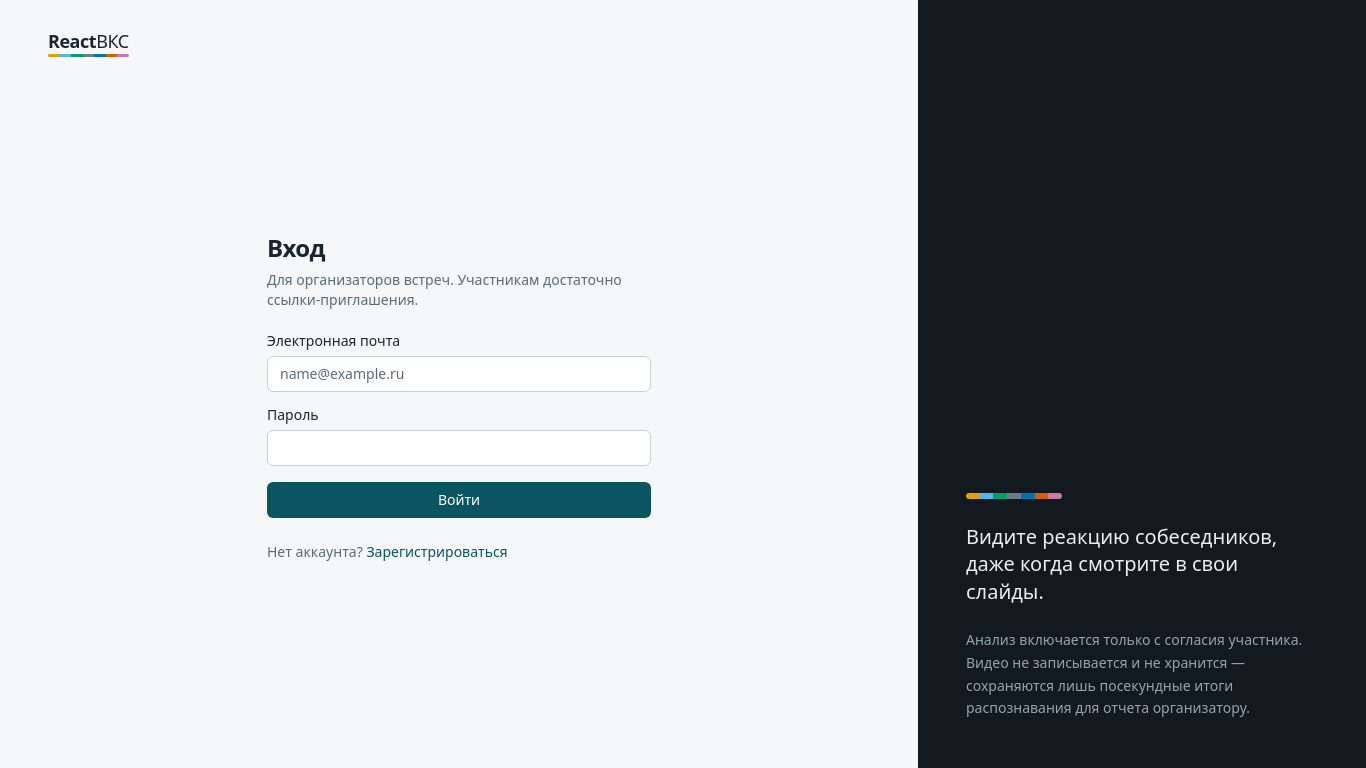
Test: вход › успешный вход: токен в памяти, переход на /meetings, имя в шапке
The width and height of the screenshot is (1366, 768).
Expected: the heading "Вход" is shown, [267, 230, 325, 264]
Type "ivan@example.ru" into the field labelled "Электронная почта". click: (459, 374)
box: [267, 356, 651, 392]
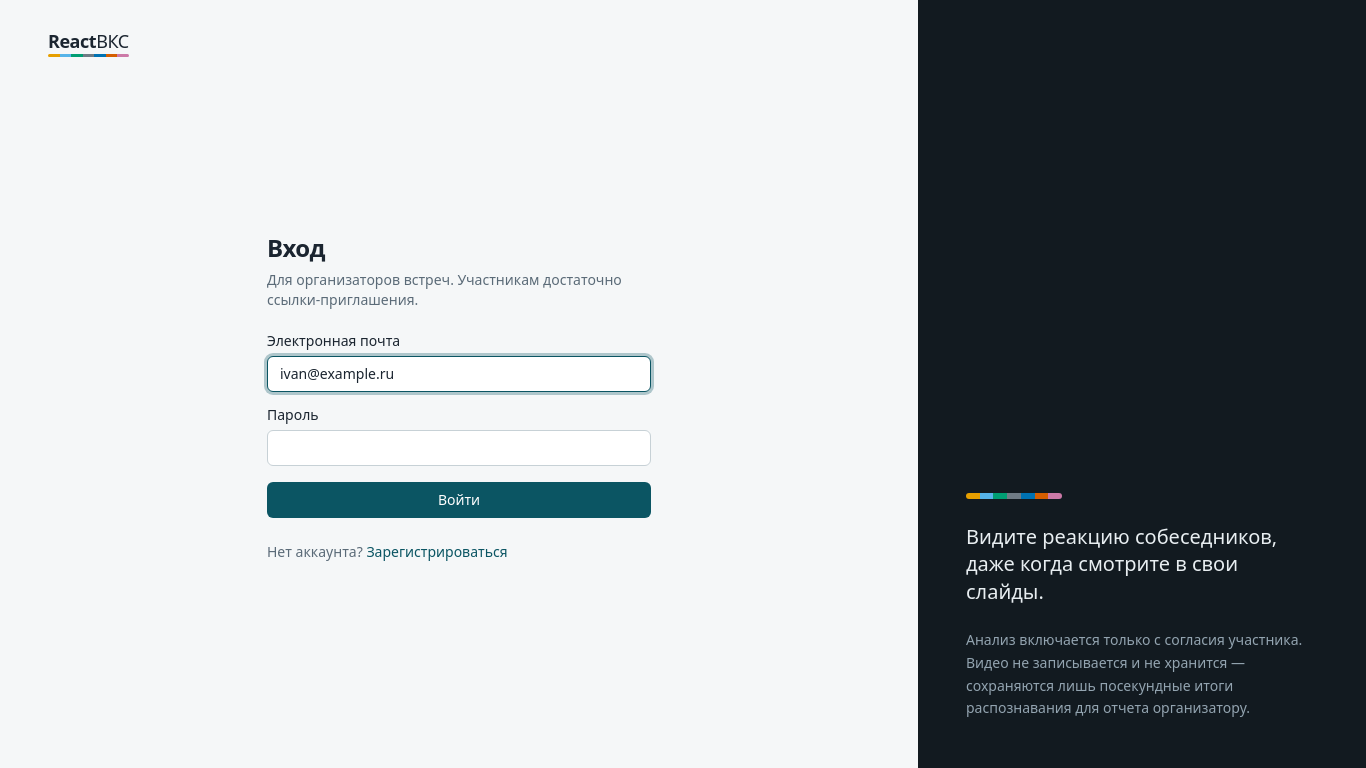
Type "Passw0rd1" into the password field labelled "Пароль". click: (459, 448)
box: [267, 430, 651, 466]
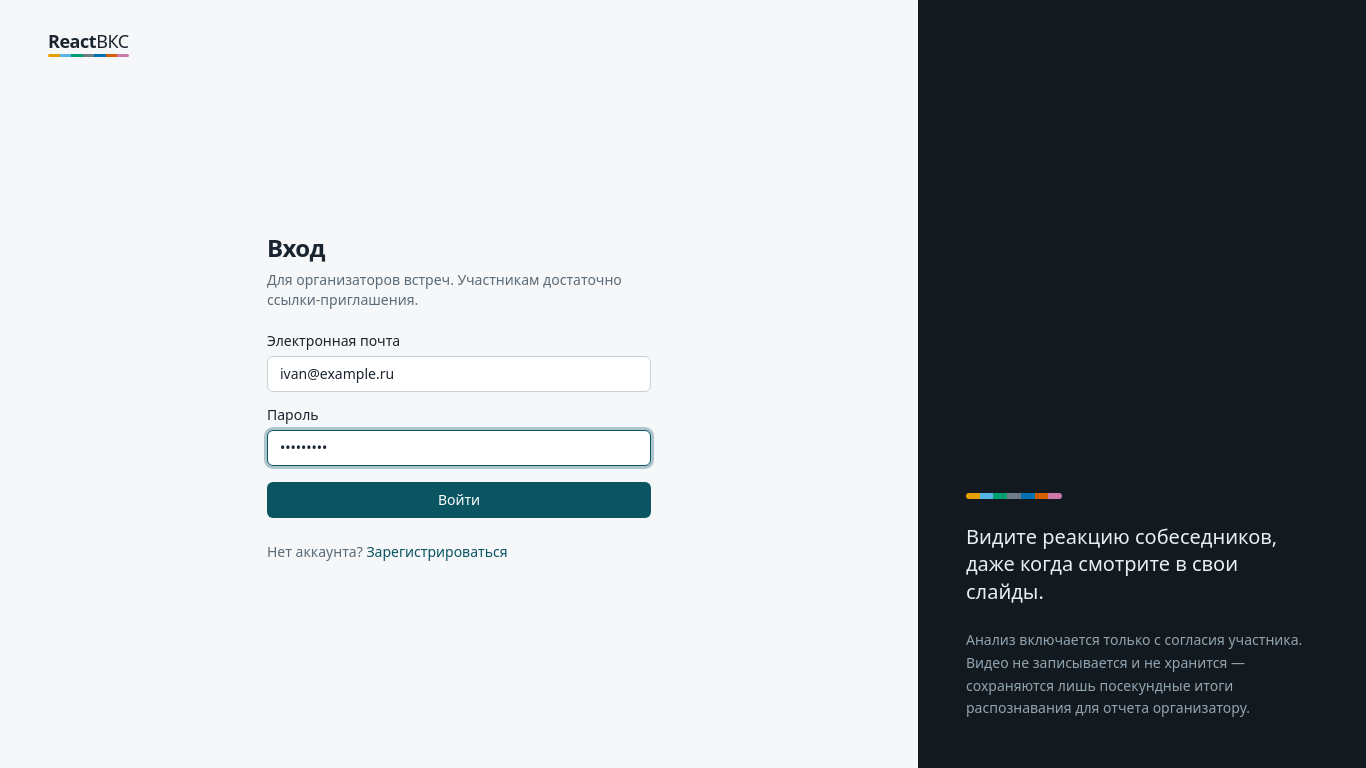
Click the button "Войти". click: (459, 500)
box: [267, 482, 651, 518]
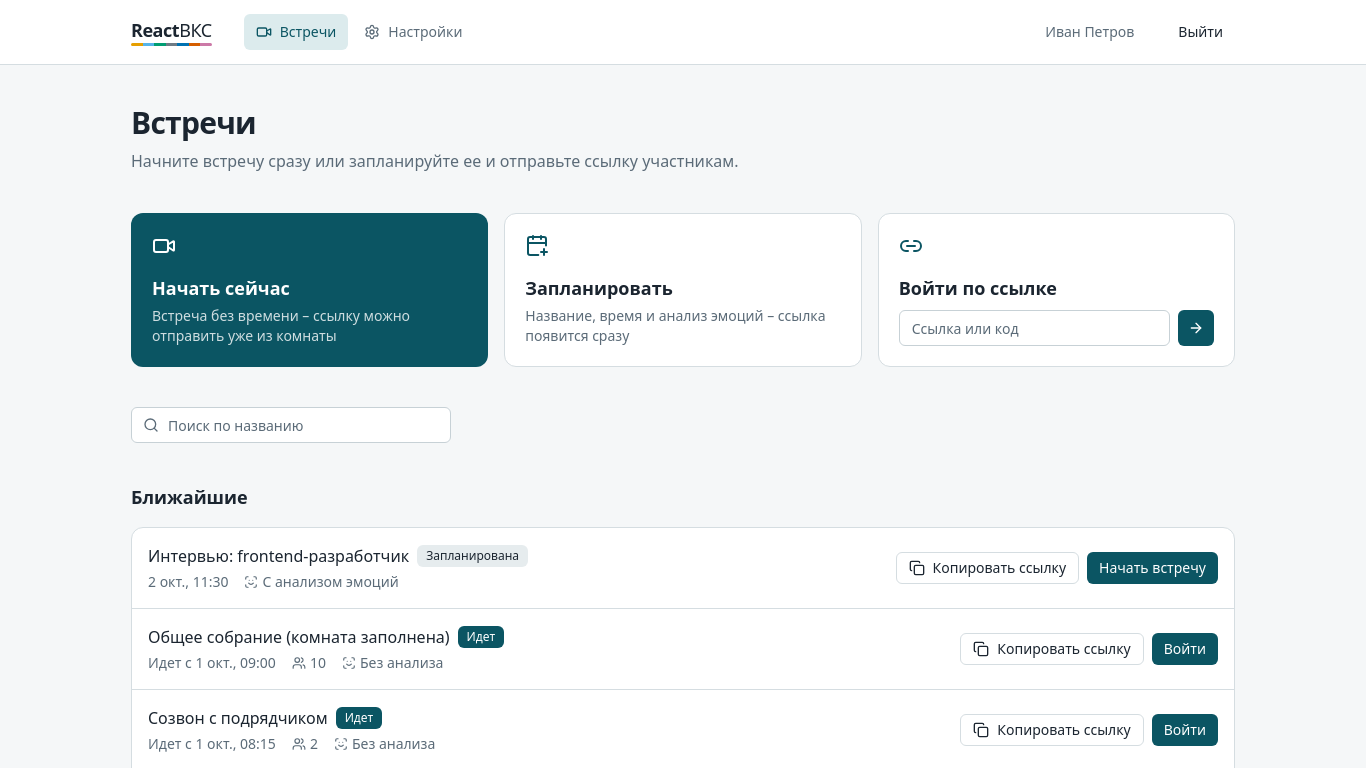
Expected: the heading "Встречи" is shown, [131, 102, 256, 143]
Expected: the text "Иван Петров" is shown, [1045, 22, 1134, 42]
